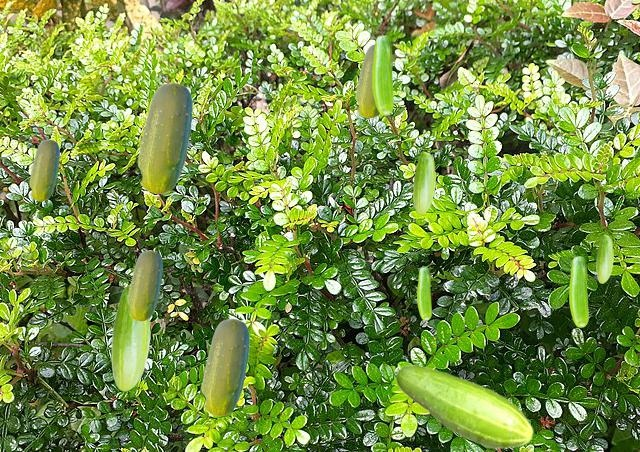cucumber: (395, 364, 533, 449), (137, 82, 191, 193), (201, 318, 248, 415), (111, 284, 149, 390), (127, 250, 161, 320), (29, 139, 58, 200), (355, 44, 379, 117), (372, 35, 392, 114), (413, 152, 434, 213), (569, 256, 587, 326), (596, 235, 612, 282), (417, 267, 430, 319)
